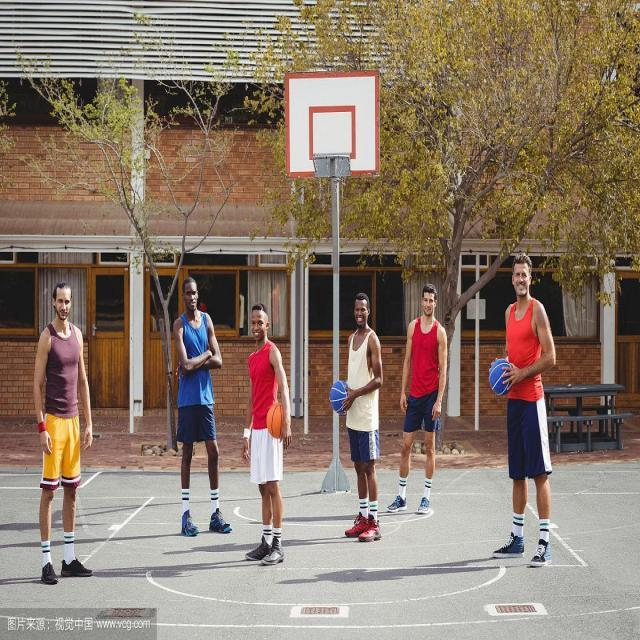rim: (266, 403, 290, 442), (492, 359, 512, 396), (330, 380, 348, 416)
